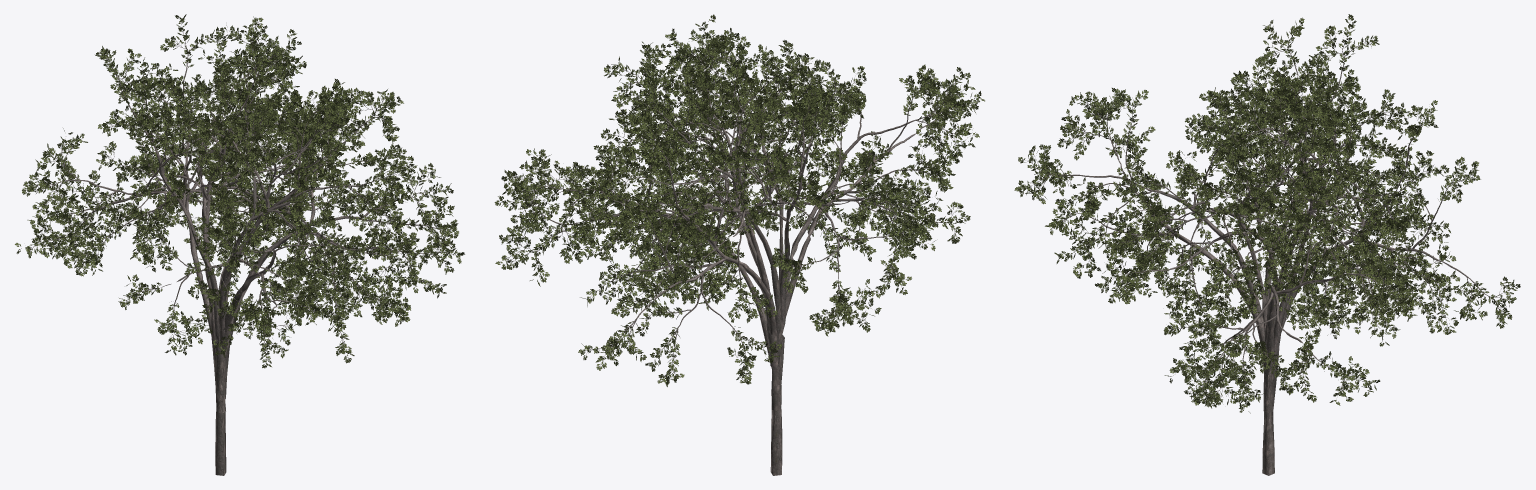
Rendered from elm-owner-optimized.glb.
3 renders of one model, left to right at view 1: azimuth 30°, elevation 25°; view 2: azimuth 150°, elevation 25°; view 3: azimuth 270°, elevation 25°, orthographic. The views are drawn at different scales.
Parts seen in each view (by area): view 1: elm-broad-leaf, elm-wild-leaf, elm-slim-leaf, elm-broad-bark, elm-wild-bark, elm-slim-bark; view 2: elm-broad-leaf, elm-wild-leaf, elm-slim-leaf, elm-broad-bark, elm-wild-bark, elm-slim-bark; view 3: elm-wild-leaf, elm-broad-leaf, elm-slim-leaf, elm-broad-bark, elm-wild-bark, elm-slim-bark.
Part boxes in pixels (left/top/right/bottom): elm-broad-leaf: left=15, top=14, right=426, bottom=355; elm-wild-leaf: left=112, top=27, right=464, bottom=363; elm-slim-leaf: left=96, top=16, right=368, bottom=368; elm-broad-bark: left=33, top=23, right=417, bottom=475; elm-wild-bark: left=129, top=41, right=455, bottom=474; elm-slim-bark: left=105, top=22, right=355, bottom=475; elm-broad-leaf: left=571, top=40, right=979, bottom=386; elm-wild-leaf: left=494, top=30, right=847, bottom=322; elm-slim-leaf: left=606, top=14, right=984, bottom=272; elm-broad-bark: left=586, top=47, right=968, bottom=475; elm-wild-bark: left=505, top=47, right=835, bottom=475; elm-slim-bark: left=622, top=21, right=973, bottom=475; elm-wild-leaf: left=1106, top=66, right=1452, bottom=413; elm-broad-leaf: left=1014, top=14, right=1520, bottom=349; elm-slim-leaf: left=1045, top=57, right=1425, bottom=303; elm-broad-bark: left=1027, top=24, right=1507, bottom=473; elm-wild-bark: left=1117, top=73, right=1442, bottom=475; elm-slim-bark: left=1059, top=66, right=1416, bottom=470.
Size of the model in its own units: 17.31 by 17.5 by 18.3.
Materials: 2 (2 with a texture image).
